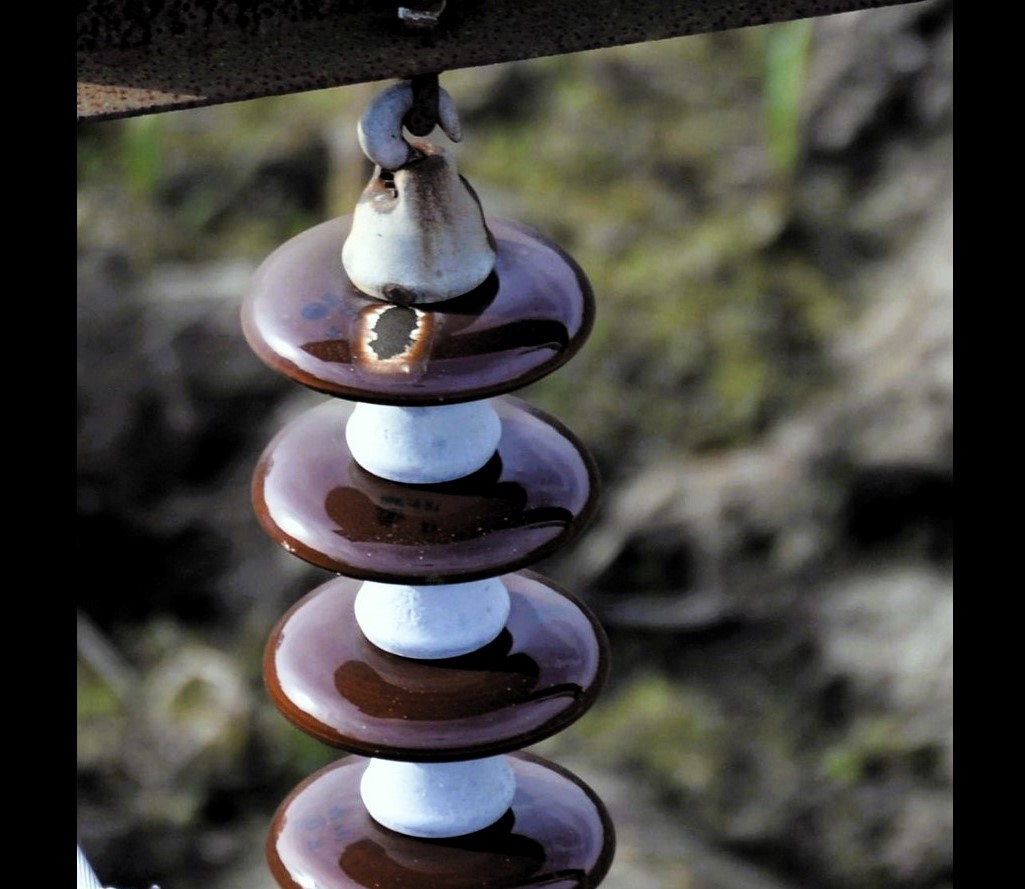Insulator flashover: (232, 207, 598, 410)
